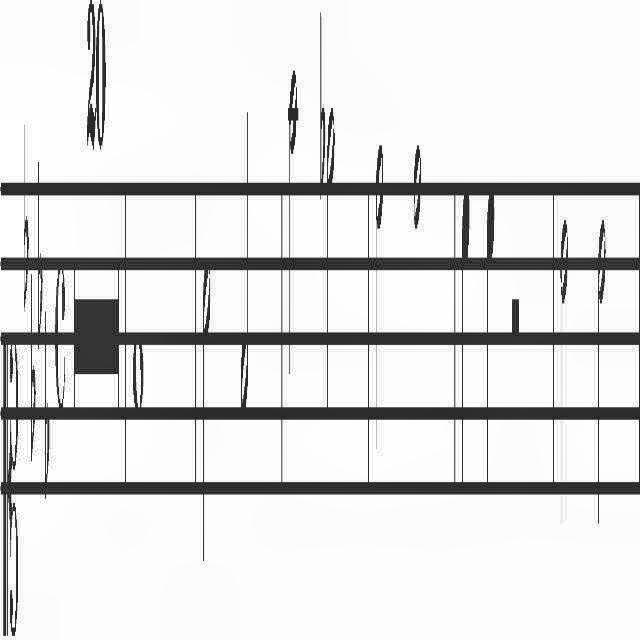Bemol: (318, 4, 326, 204), (29, 270, 36, 462), (44, 312, 51, 498), (23, 116, 29, 328), (38, 154, 42, 342)
Full-note: (132, 320, 144, 428)
Half-note: (596, 204, 608, 540), (558, 208, 570, 532), (411, 137, 422, 453), (240, 83, 250, 424), (201, 242, 211, 582), (287, 53, 297, 390), (373, 132, 383, 462), (325, 100, 335, 428)
Quarter-note: (461, 183, 472, 507), (485, 175, 495, 508)
